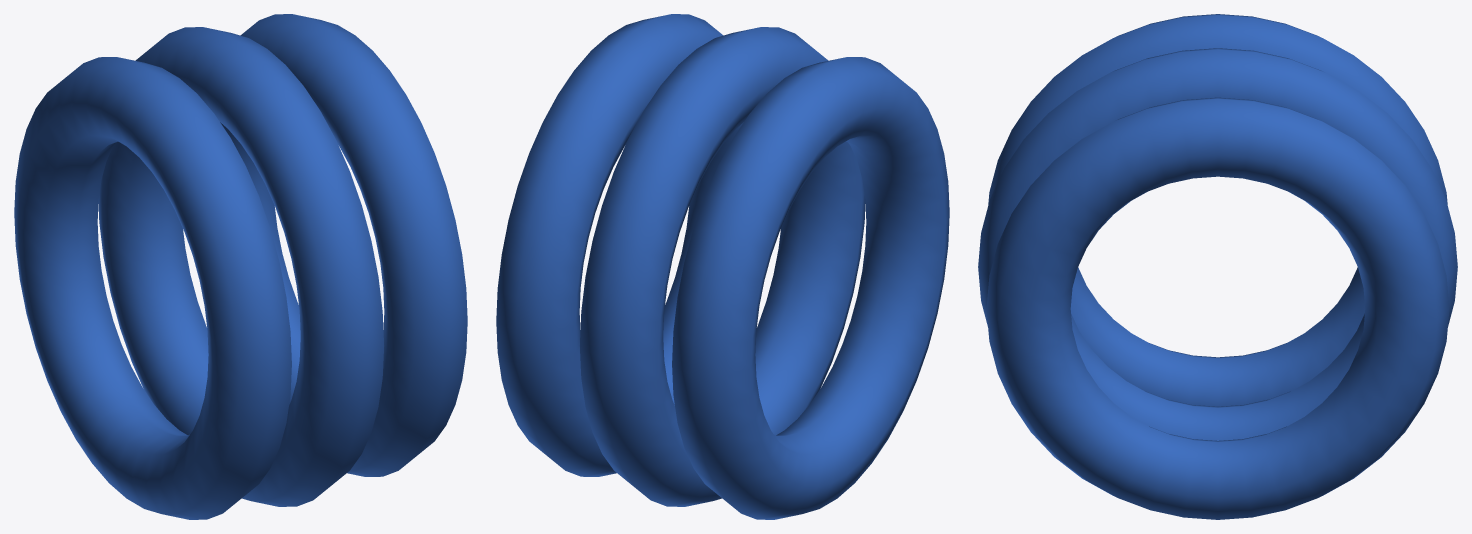
Rendered from rolled_cuff.glb.
The picture shows the model from 3 angles, left to right: view 1: azimuth 30°, elevation 25°; view 2: azimuth 150°, elevation 25°; view 3: azimuth 270°, elevation 25°; orthographic projection. The views are drawn at different scales.
Visible parts, largest first — view 1: rolled_cuff; view 2: rolled_cuff; view 3: rolled_cuff.
Boxes of the visible parts, x1,y1,x2,y2 form: rolled_cuff: (14,14,467,519); rolled_cuff: (496,14,949,519); rolled_cuff: (978,14,1457,519).
Bounding box in the file's own units: 0.134 × 0.228 × 0.228.
